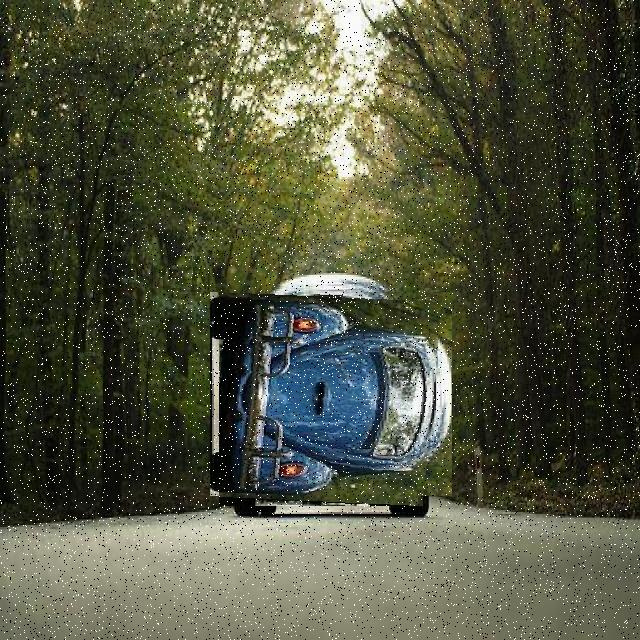car: (220, 284, 444, 507)
